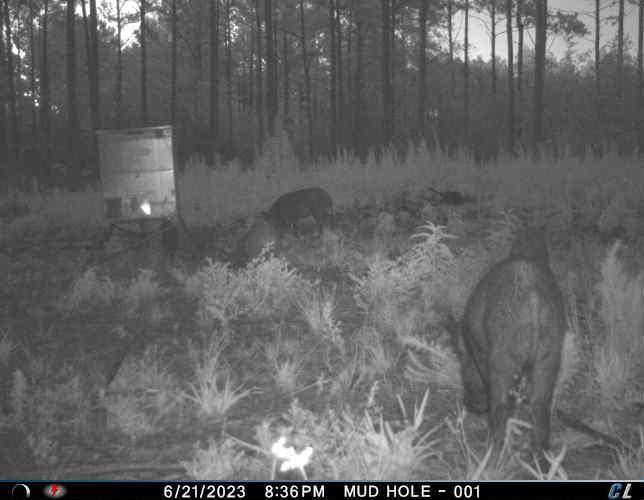Hog: (444, 250, 569, 458), (259, 185, 339, 232)
